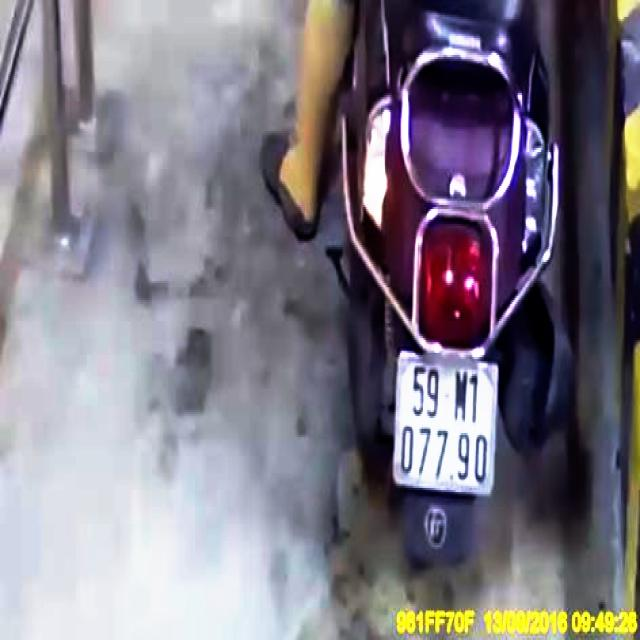license_plate: (395, 351, 501, 498)
